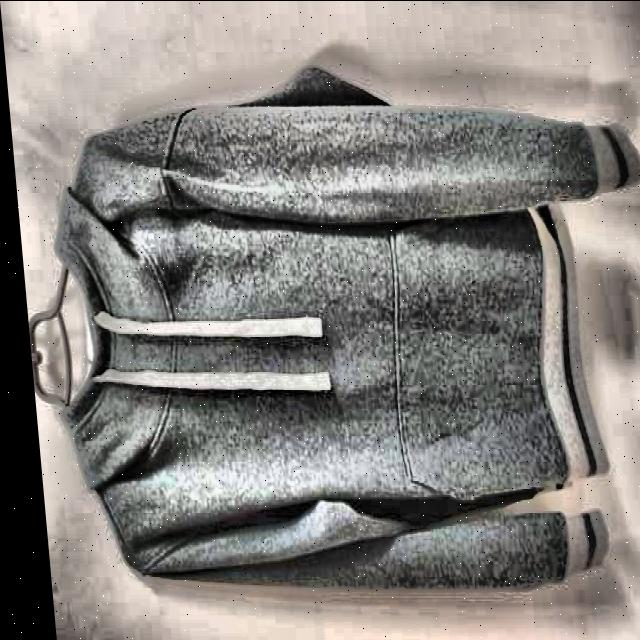clothes: (33, 62, 640, 592)
